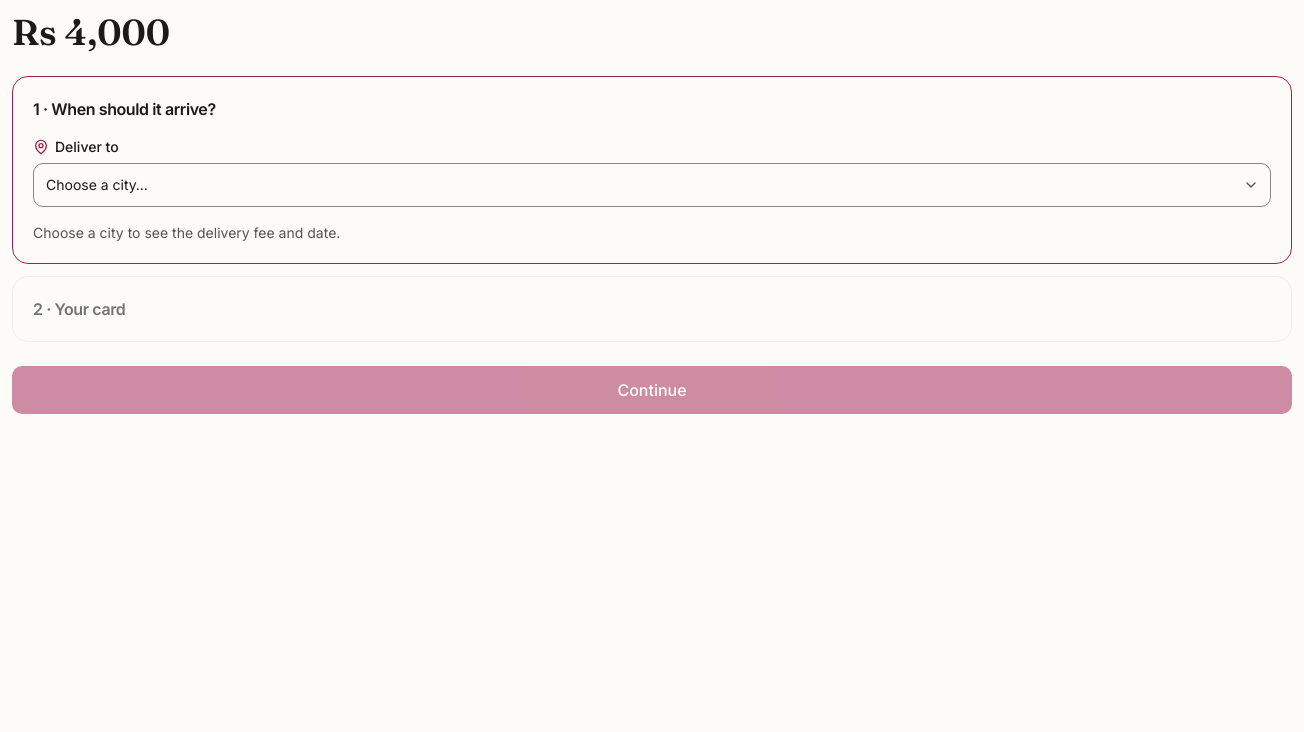
Test: VariantPicker delivery info › adds the cutoff in the buyer's own time when they're abroad
This screenshot has width=1304, height=732.
Select "Lahore" in the dropdown labelled "Deliver to" at (652, 185), box x1=33 y1=163 x2=1271 y2=207
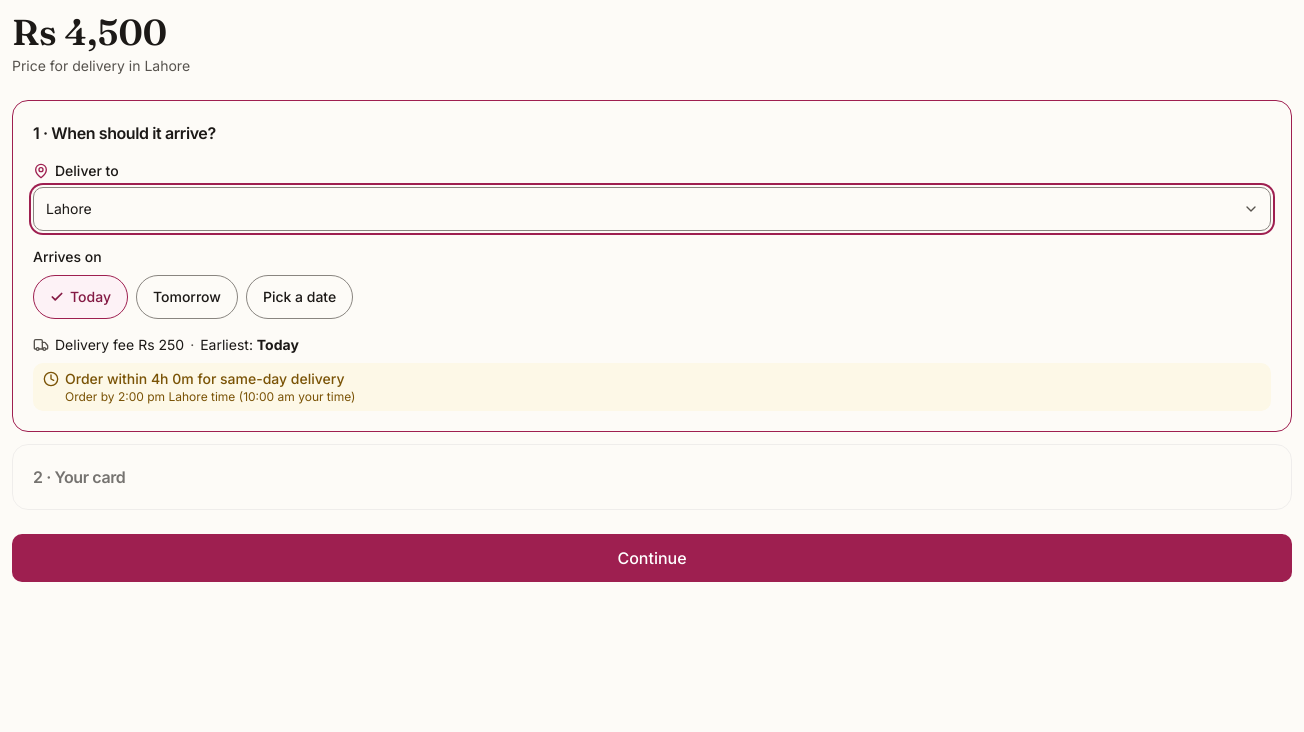
Check: the text "Order by 2:00 pm Lahore time (10:00 am your time)" is shown, box x1=65 y1=389 x2=356 y2=405
